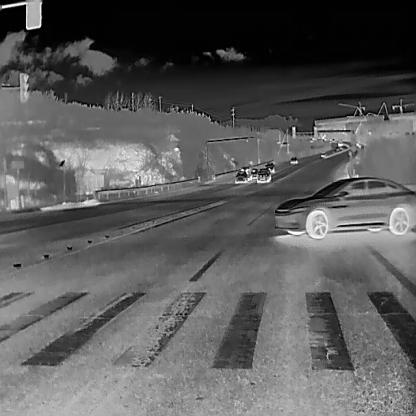car: (274, 176, 415, 240), (255, 168, 270, 183), (233, 170, 248, 184), (264, 160, 274, 172), (250, 167, 258, 179), (289, 155, 298, 164), (320, 150, 325, 157), (332, 148, 336, 153), (334, 146, 338, 150), (355, 142, 359, 146), (358, 143, 361, 148), (331, 138, 335, 141)
truck: (239, 165, 252, 181), (336, 138, 343, 146)
